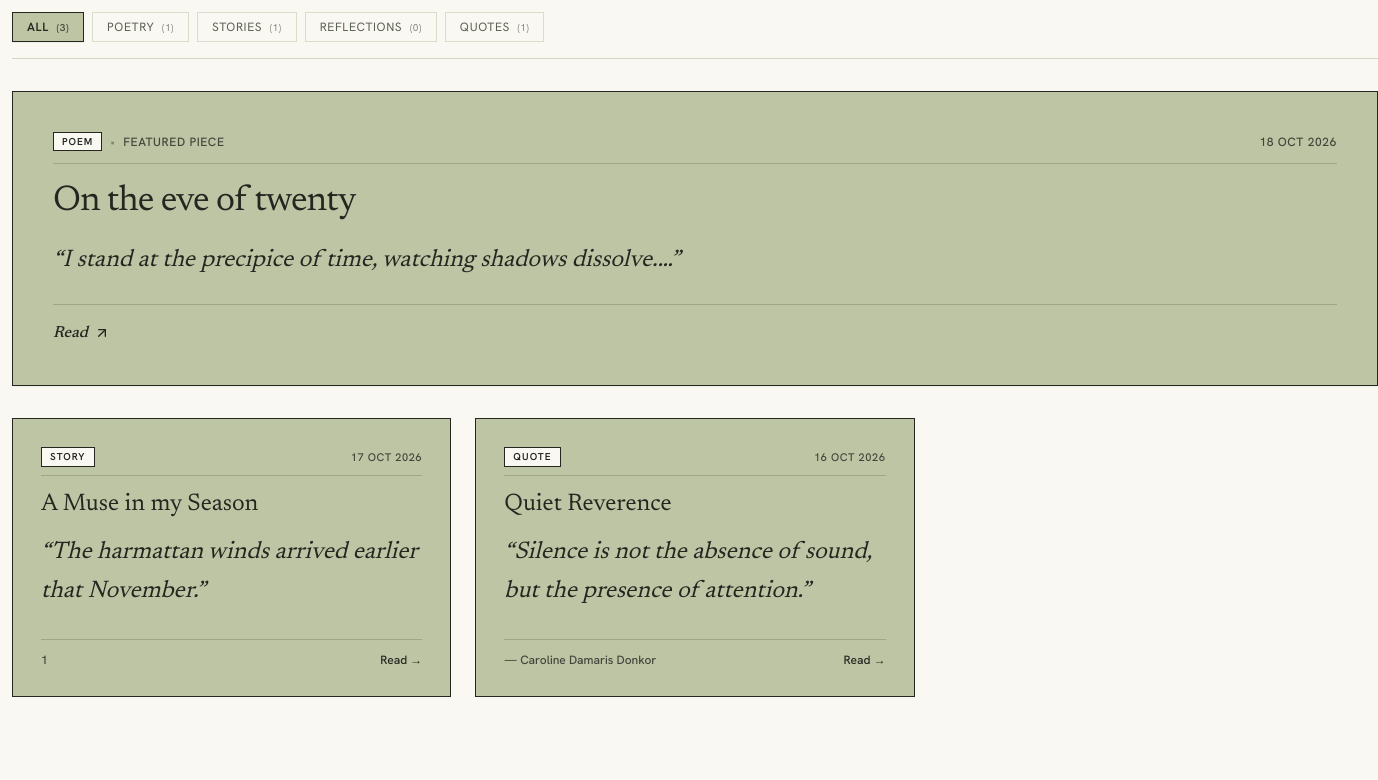
it: RecentWritingShowcase (Pinterest-inspired Literary Showcase) › filters posts when clicking genre filter tabs
What coordinates should you click on to do the following:
click the tab "Poetry (1)"
I would click on:
 (140, 27)
Its box is [92, 12, 189, 42].
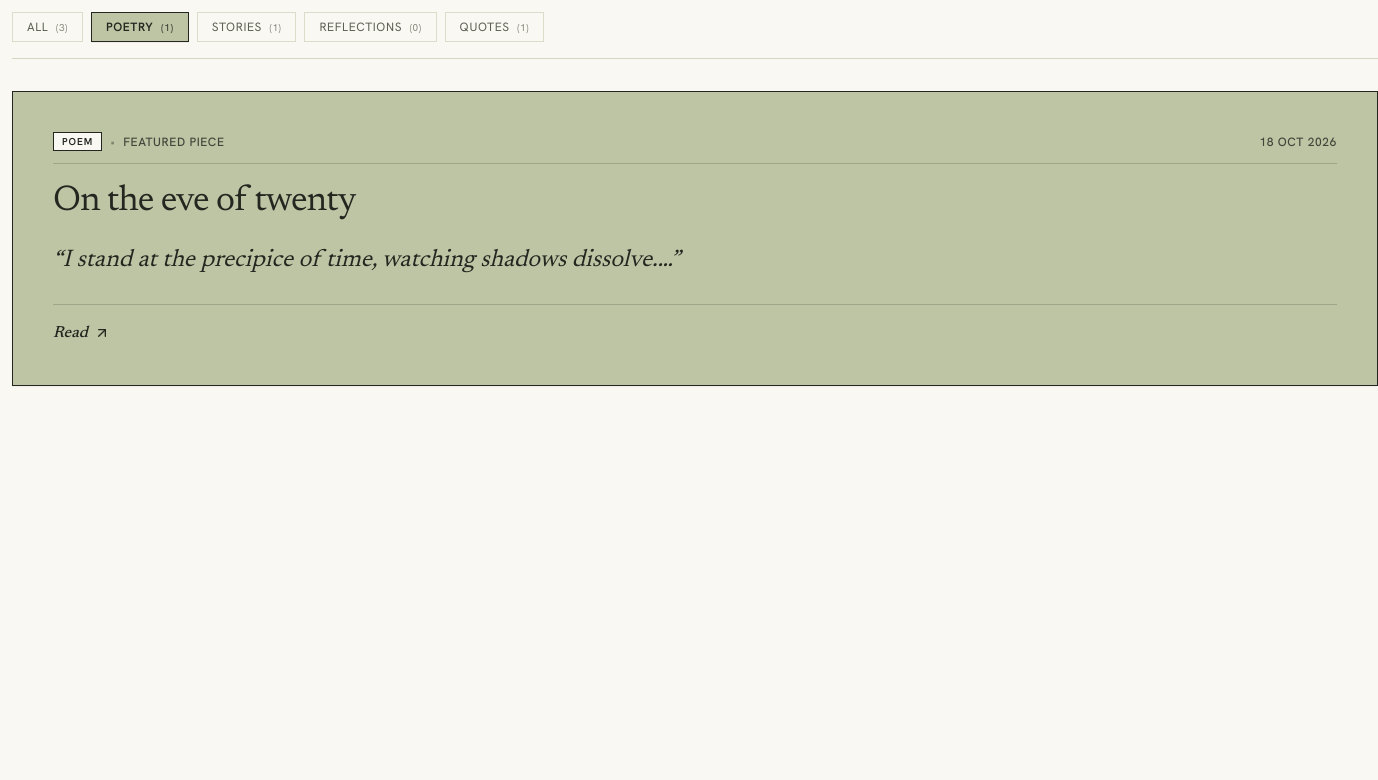
Check: the text "On the eve of twenty" is shown, box [53, 184, 356, 220]
Check: the text "A Muse in my Season" is gone
What coordinates should you click on to do the following:
click the tab "Stories (1)"
I would click on:
 (247, 27)
Its box is [197, 12, 296, 42].
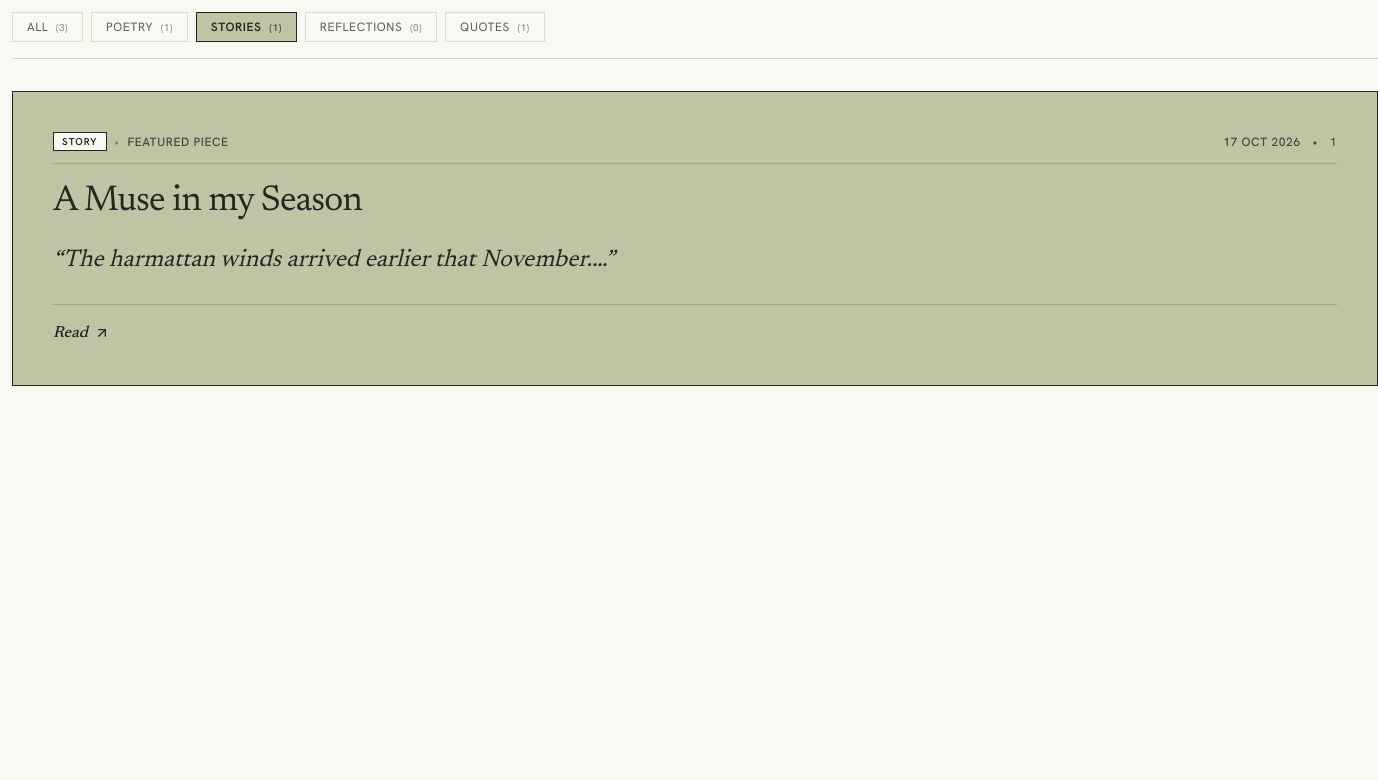
Check: the text "A Muse in my Season" is shown, box [53, 184, 362, 220]
Check: the text "On the eve of twenty" is gone
